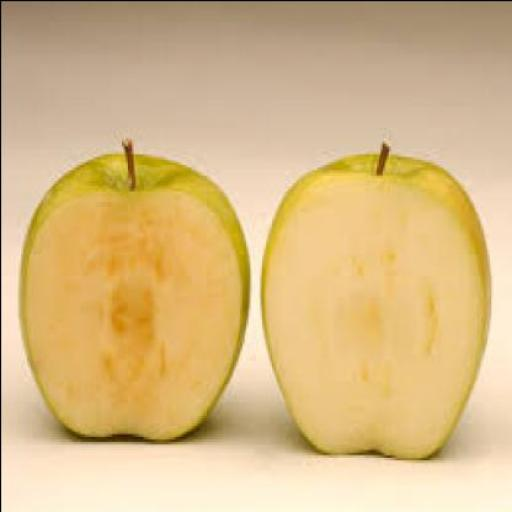biodegradable: (259, 137, 488, 451), (14, 134, 248, 438)
